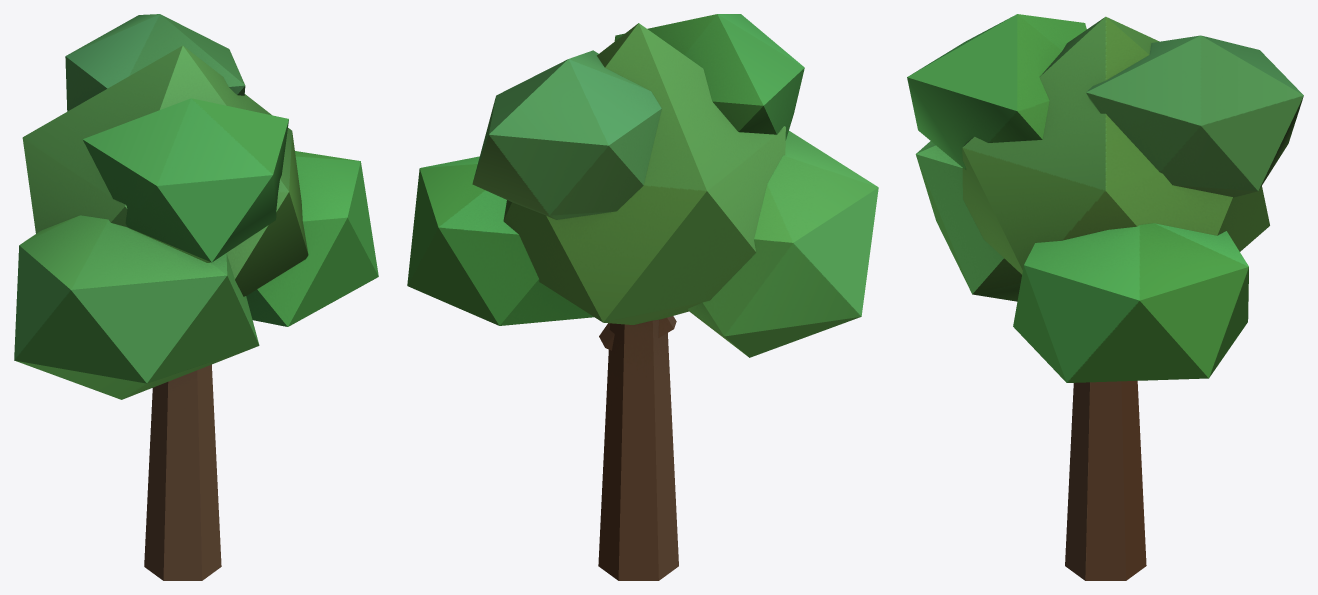
The model's file is scenery_tree_1.fbx.
The picture shows the model from 3 angles, left to right: view 1: azimuth 30°, elevation 25°; view 2: azimuth 150°, elevation 25°; view 3: azimuth 270°, elevation 25°; orthographic projection. The views are drawn at different scales.
Parts seen in each view (by area): view 1: scenery_tree_1_body; view 2: scenery_tree_1_body; view 3: scenery_tree_1_body.
Boxes of the visible parts, box(x1,y1,x2,y2) form: scenery_tree_1_body: box(14, 14, 378, 580); scenery_tree_1_body: box(407, 14, 878, 580); scenery_tree_1_body: box(907, 14, 1303, 580).
Size of the model in its own units: 1242 by 1605 by 1051.
1 material, 1 textured.
